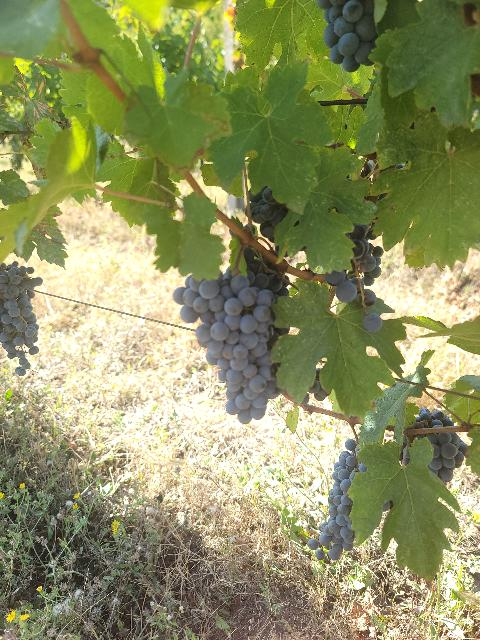grapes: (174, 269, 289, 424), (308, 439, 358, 560), (400, 408, 469, 486), (0, 261, 42, 376)
